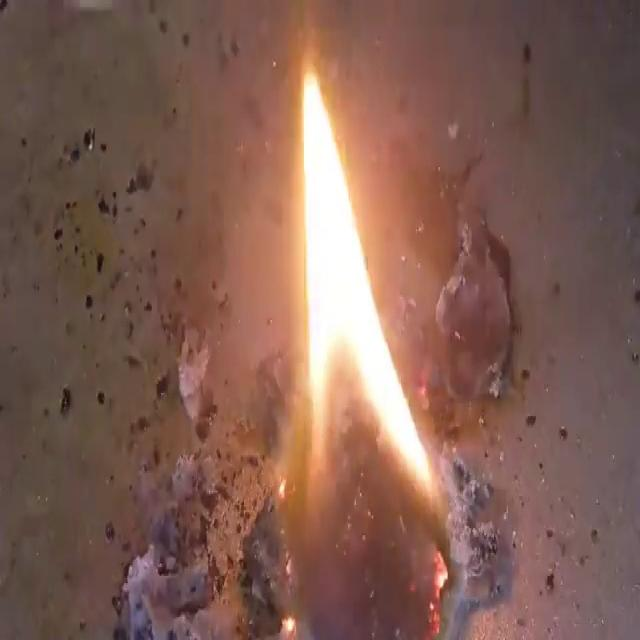Fire: (3, 4, 636, 636), (279, 58, 453, 634)
